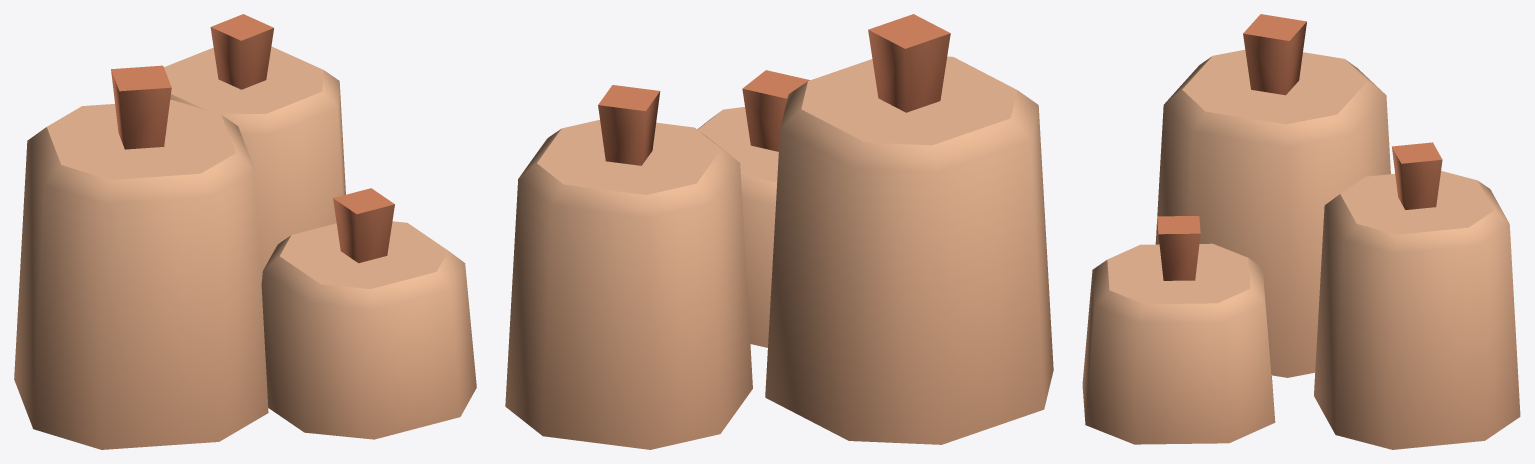
Rendered from cc0-candle-multiple-lod0.glb.
3 renders of one model, left to right at view 1: azimuth 30°, elevation 25°; view 2: azimuth 150°, elevation 25°; view 3: azimuth 270°, elevation 25°, orthographic. The views are drawn at different scales.
Parts seen in each view (by area): view 1: part_0; view 2: part_0; view 3: part_0.
Boxes of the visible parts, x1=… form: part_0: x1=14, y1=14, x2=476, y2=449; part_0: x1=505, y1=14, x2=1053, y2=449; part_0: x1=1082, y1=14, x2=1520, y2=449.
Bounding box in the file's own units: 0.2552 × 0.2002 × 0.2667.
1 material, 1 textured.
